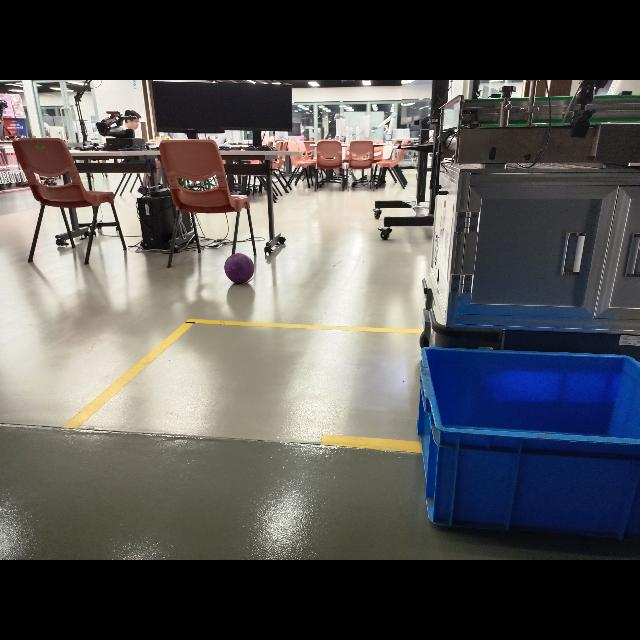P: (224, 253, 254, 283)
